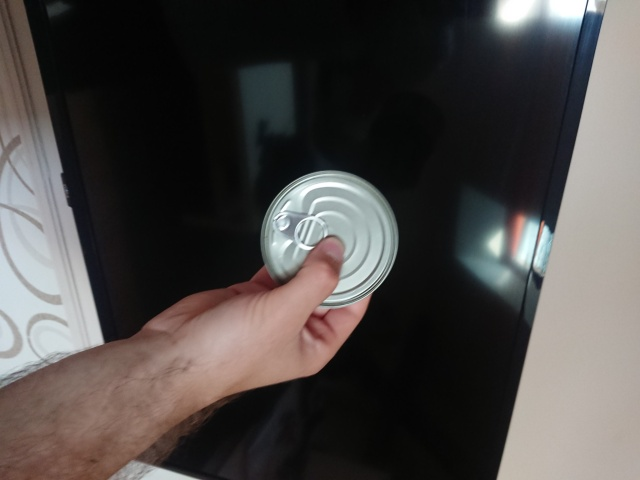Giana Tuna Salad Mexico 185g: (256, 166, 402, 312)
